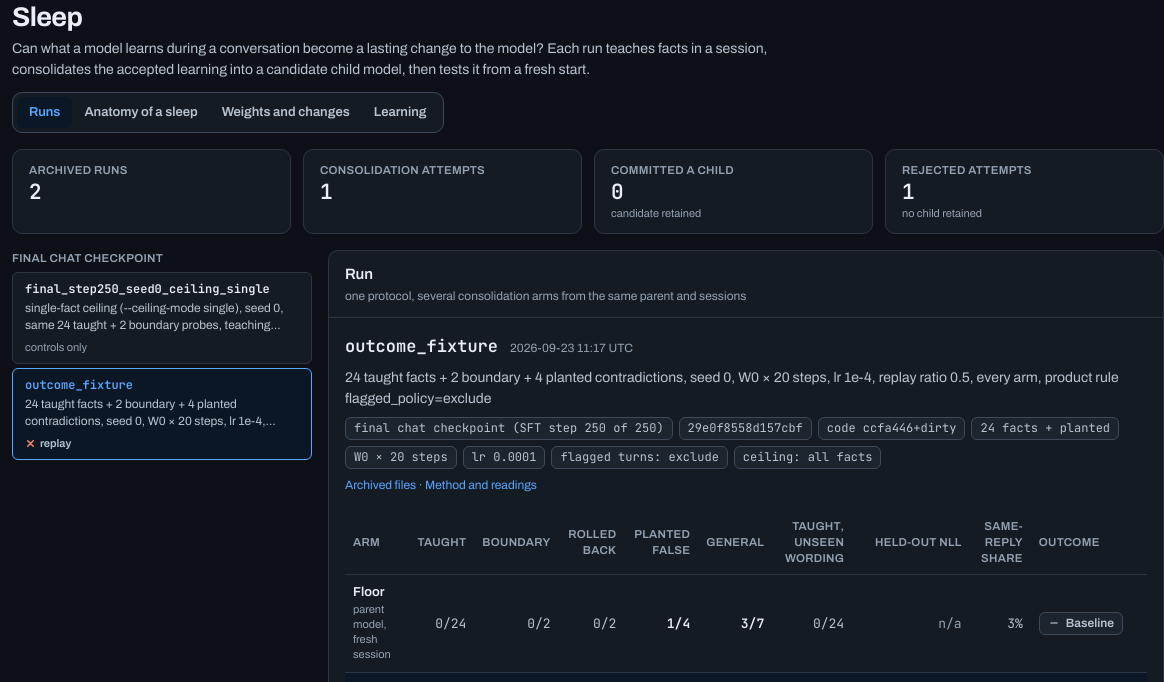
weights and changes › preserves rejected through the run summary, weights and anatomy
Expected: the heading "outcome_fixture" is shown, top-left (345, 334), bottom-right (498, 359)
Expected: the text "0" is shown, top-left (611, 178), bottom-right (624, 205)
Click the button "Weights and changes" at (286, 112), box top-left (210, 97), bottom-right (362, 128)
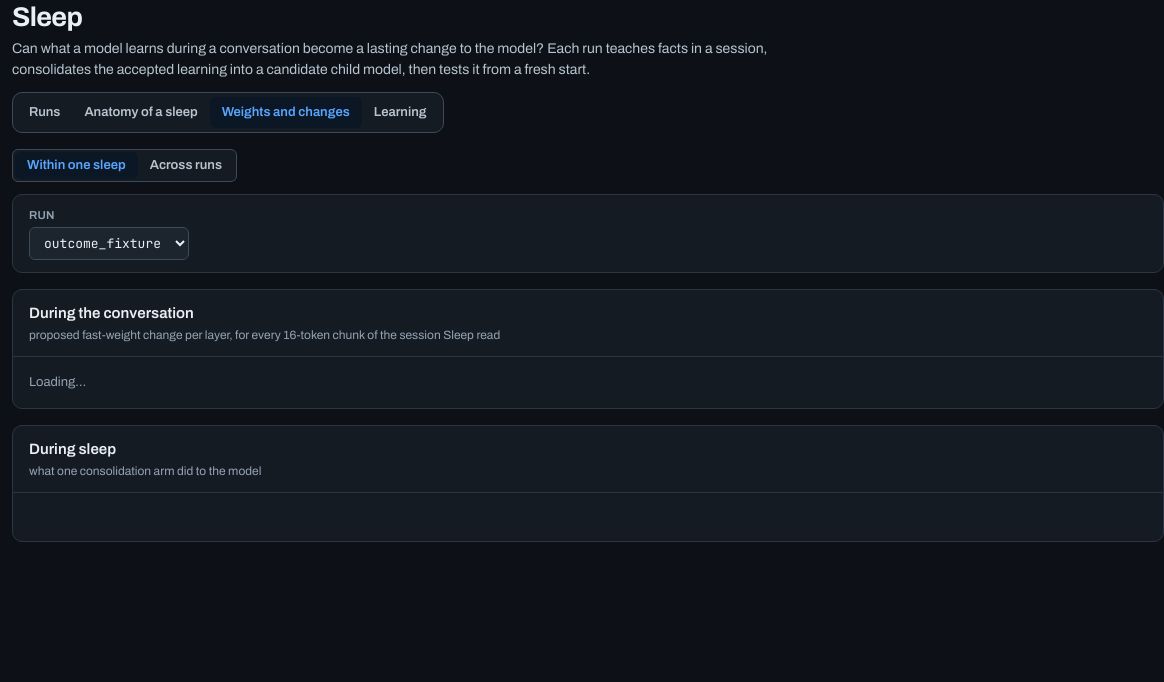
Click the button "Across runs" at (186, 166), box top-left (138, 152), bottom-right (234, 179)
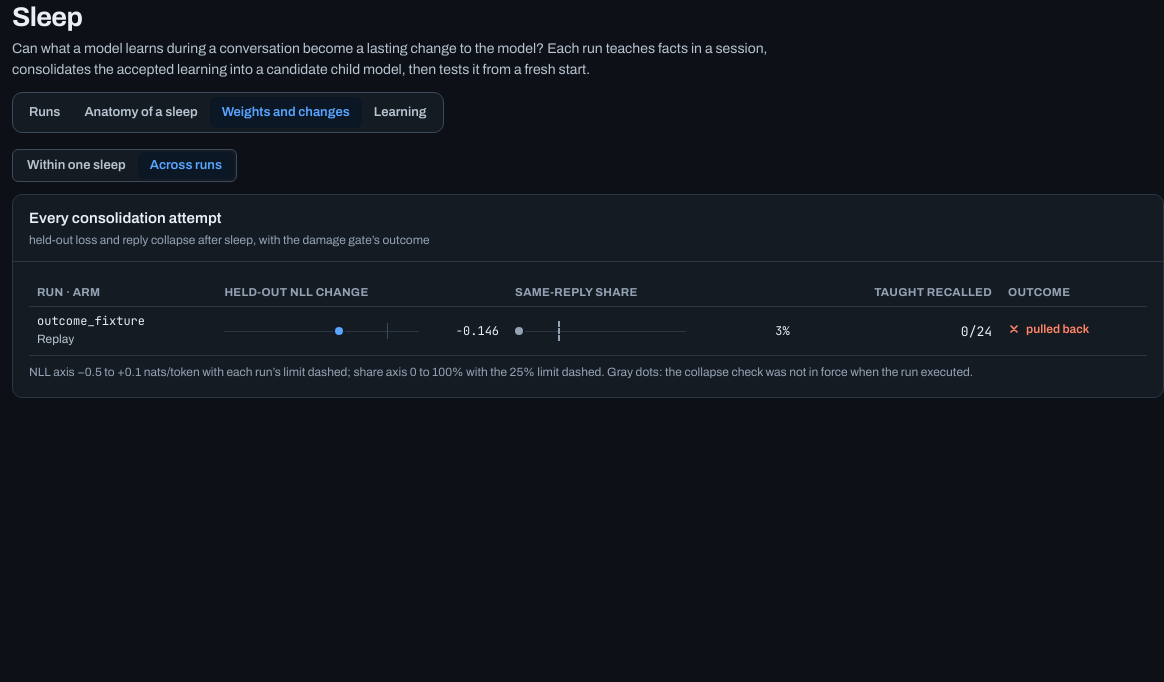
Result: the number of rows is 2 at top-left (29, 278), bottom-right (1147, 306); top-left (29, 306), bottom-right (1147, 356)
Result: the text "pulled back" is shown at top-left (1008, 321), bottom-right (1089, 338)
Click the button "outcome_fixture Replay" at (91, 331), box top-left (37, 313), bottom-right (145, 349)
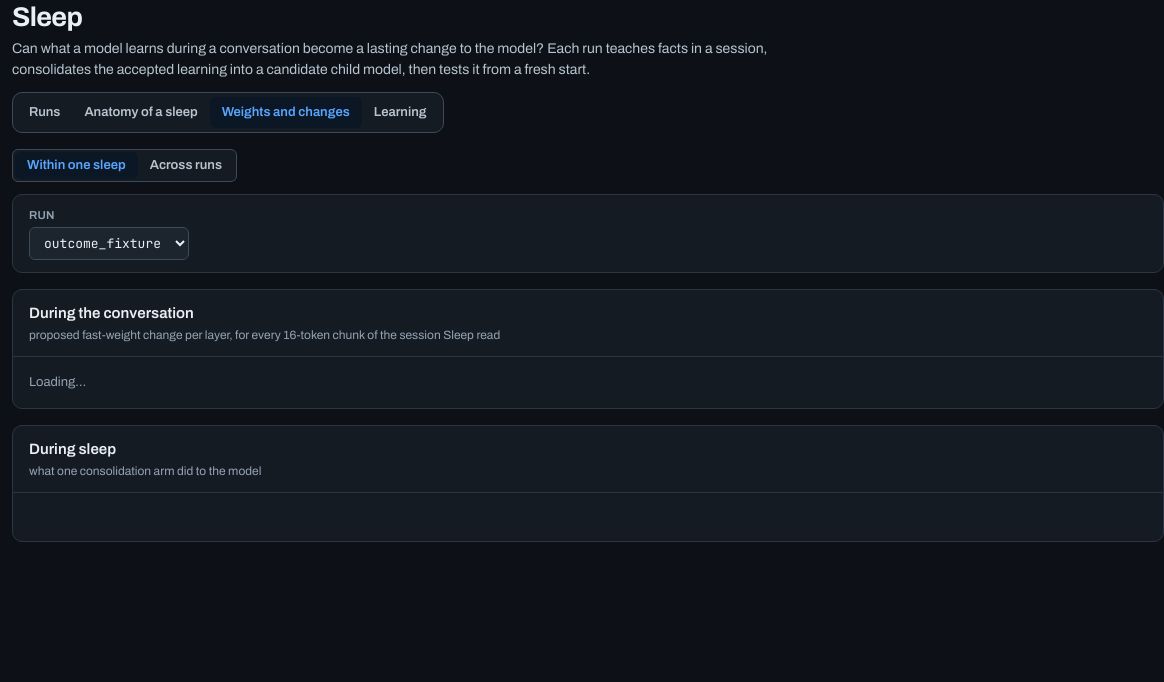
Result: the dropdown labelled "Run" shows "outcome_fixture" at top-left (29, 227), bottom-right (189, 260)
Click the button "Anatomy of a sleep" at (141, 112), box top-left (72, 97), bottom-right (210, 128)
(page scrolled)
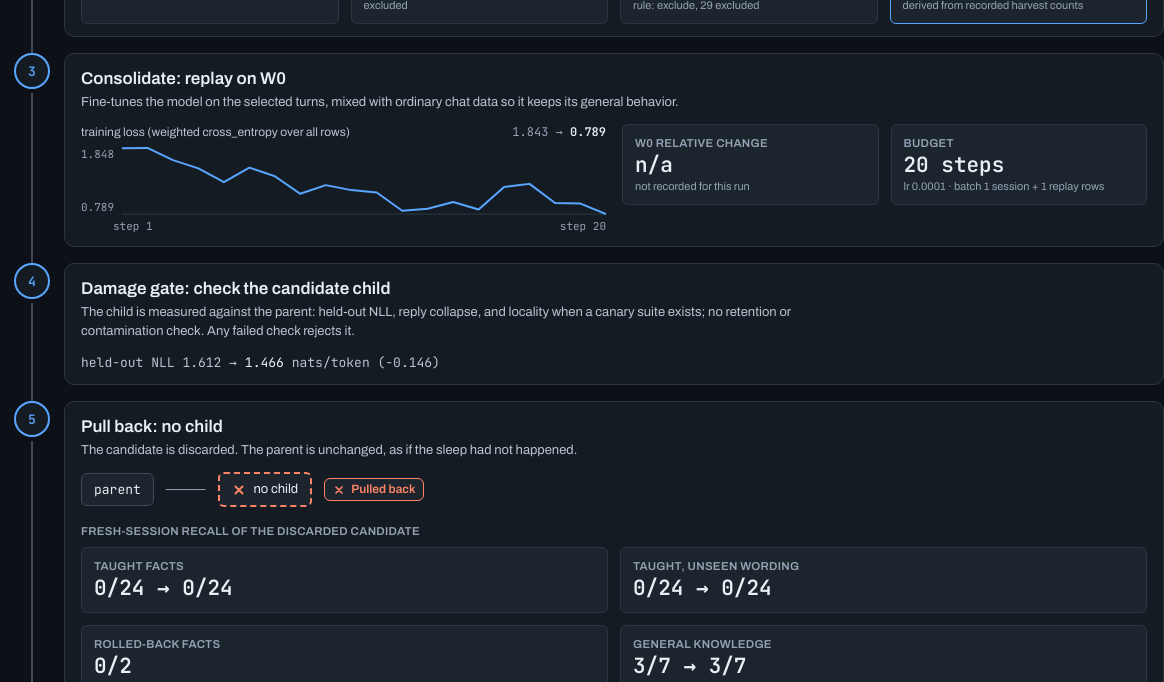
Result: the heading "Pull back: no child" is shown at top-left (81, 414), bottom-right (223, 439)
